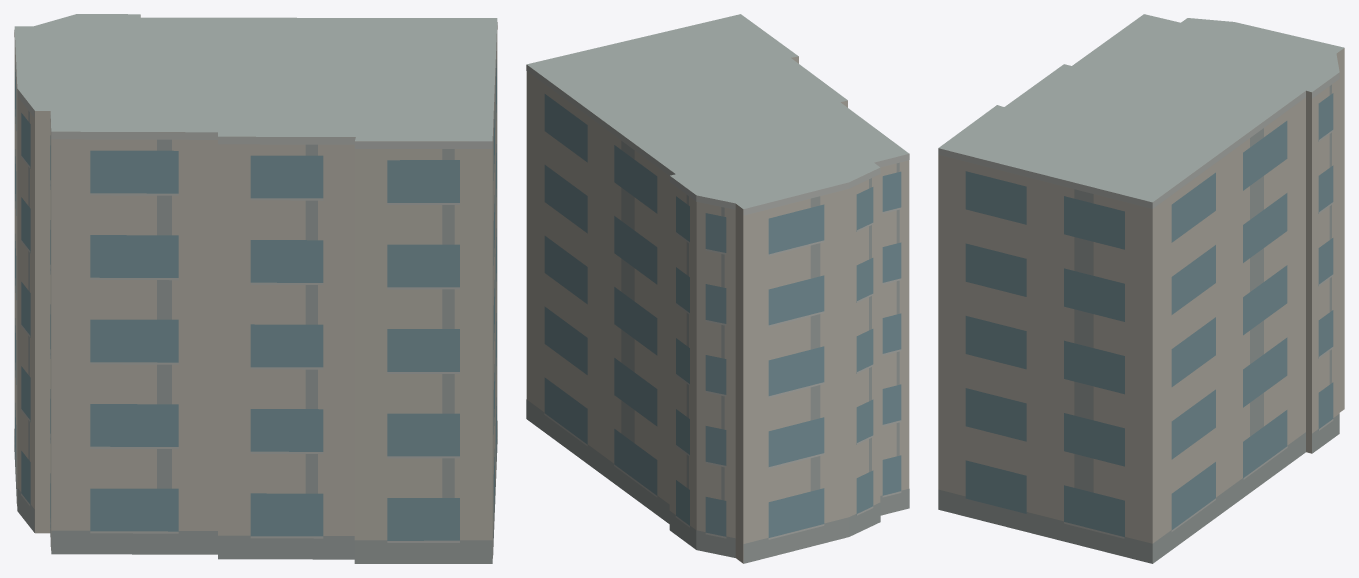
Rendered from survey-upis-32951782.glb.
3 views of the same model, side by side, from view 1: azimuth 30°, elevation 25°; view 2: azimuth 150°, elevation 25°; view 3: azimuth 270°, elevation 25° (orthographic). The views are drawn at different scales.
Visible parts, largest first — view 1: survey-upis-32951782.tmp; view 2: survey-upis-32951782.tmp; view 3: survey-upis-32951782.tmp.
Boxes of the visible parts, x1=… form: survey-upis-32951782.tmp: x1=14, y1=14, x2=497, y2=563; survey-upis-32951782.tmp: x1=526, y1=14, x2=909, y2=563; survey-upis-32951782.tmp: x1=938, y1=14, x2=1344, y2=563.
Bounding box in the file's own units: 14.99 × 13.4 × 13.66.
